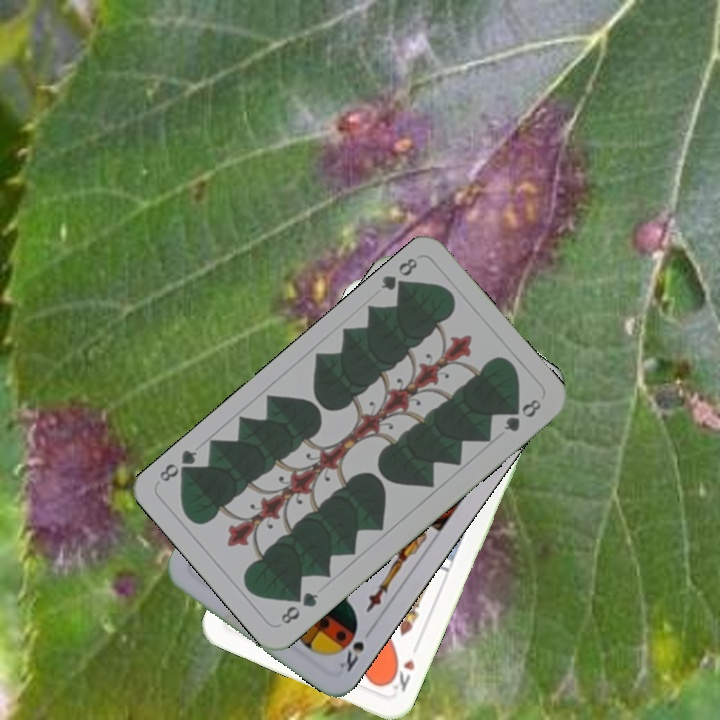G8: (376, 253, 421, 297), (276, 587, 321, 627)
HK: (384, 655, 418, 695)
SK: (335, 637, 367, 675)
